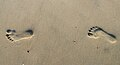human_footprint: (87, 26, 116, 42), (6, 29, 33, 41)
